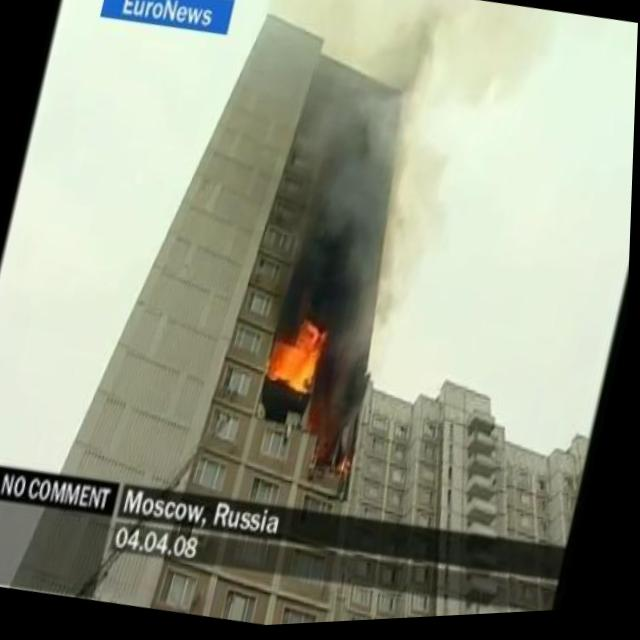fire: (265, 307, 337, 401)
